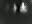person: (20, 2, 28, 15), (13, 3, 18, 14)
